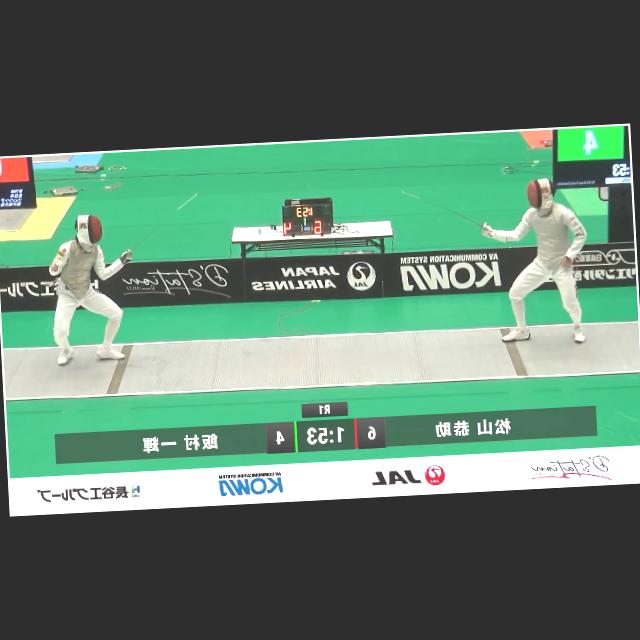blade: (118, 188, 206, 258), (399, 182, 488, 236)
